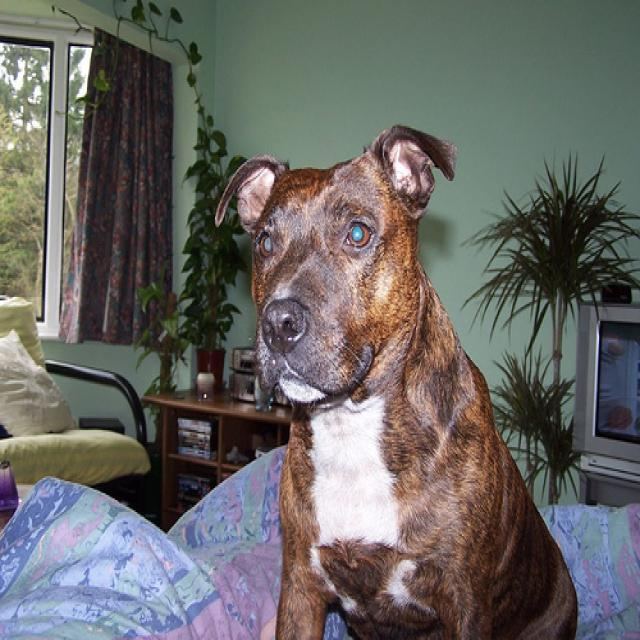dog-staffordshire_bull_terrier: (207, 116, 590, 637)
